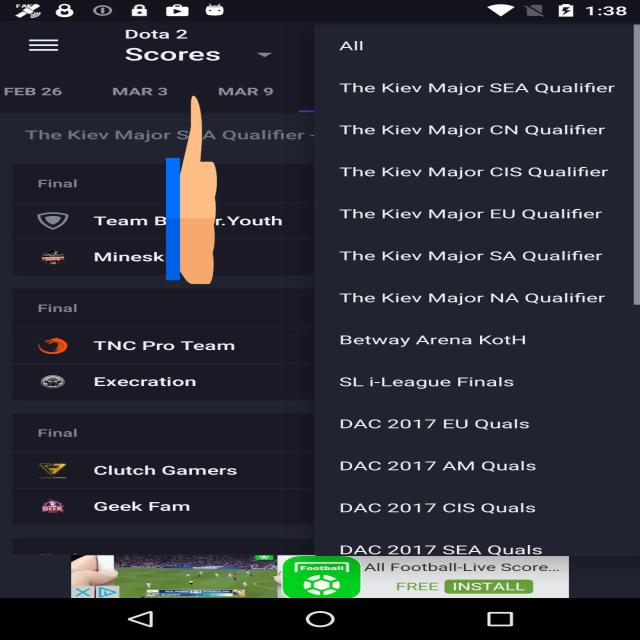privacy zuckering: (166, 91, 217, 289)
